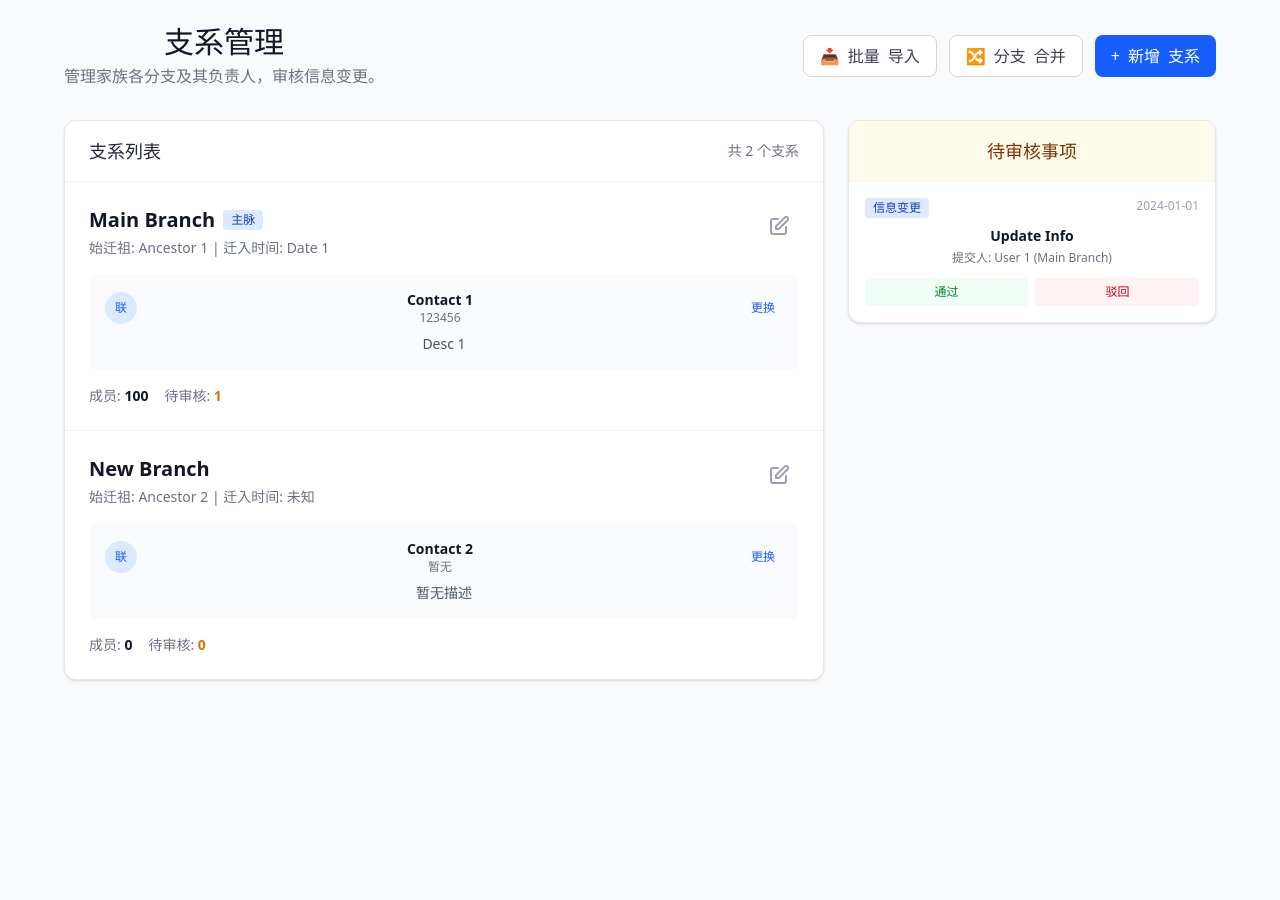
BranchManagement.vue › approves a review
The width and height of the screenshot is (1280, 900).
Click the button "通过": (946, 292) [865,278,1028,306]
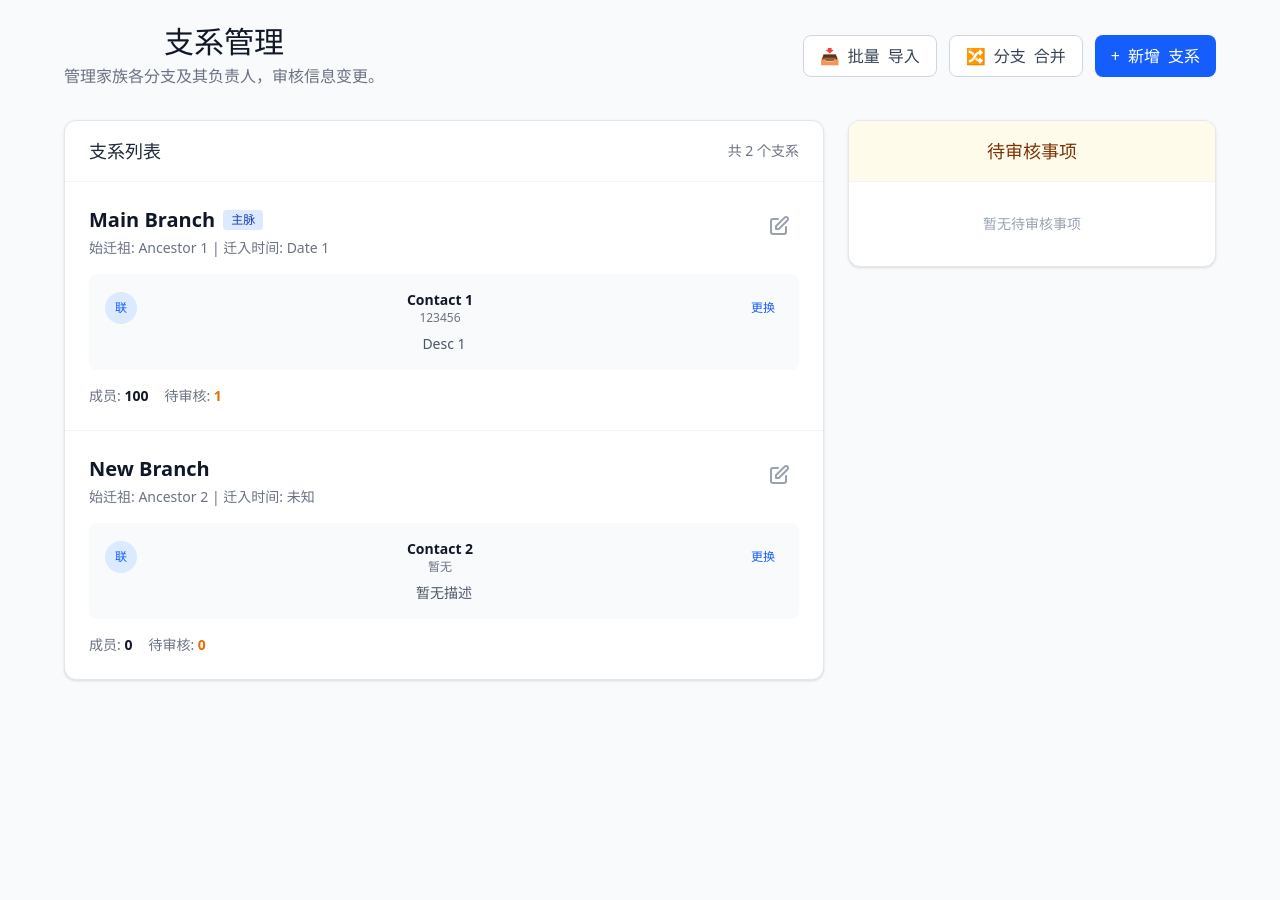
Expected: the text "Update Info" is gone
